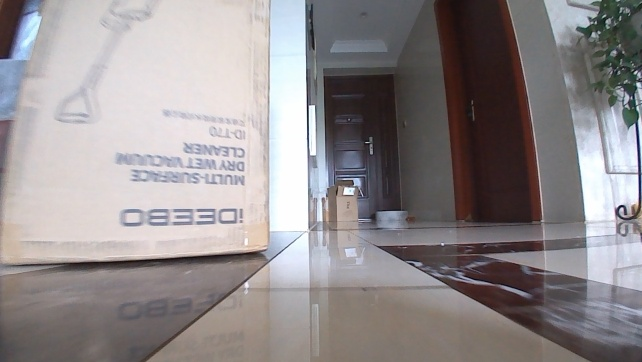door_anno: (430, 0, 543, 221), (324, 72, 402, 224)
